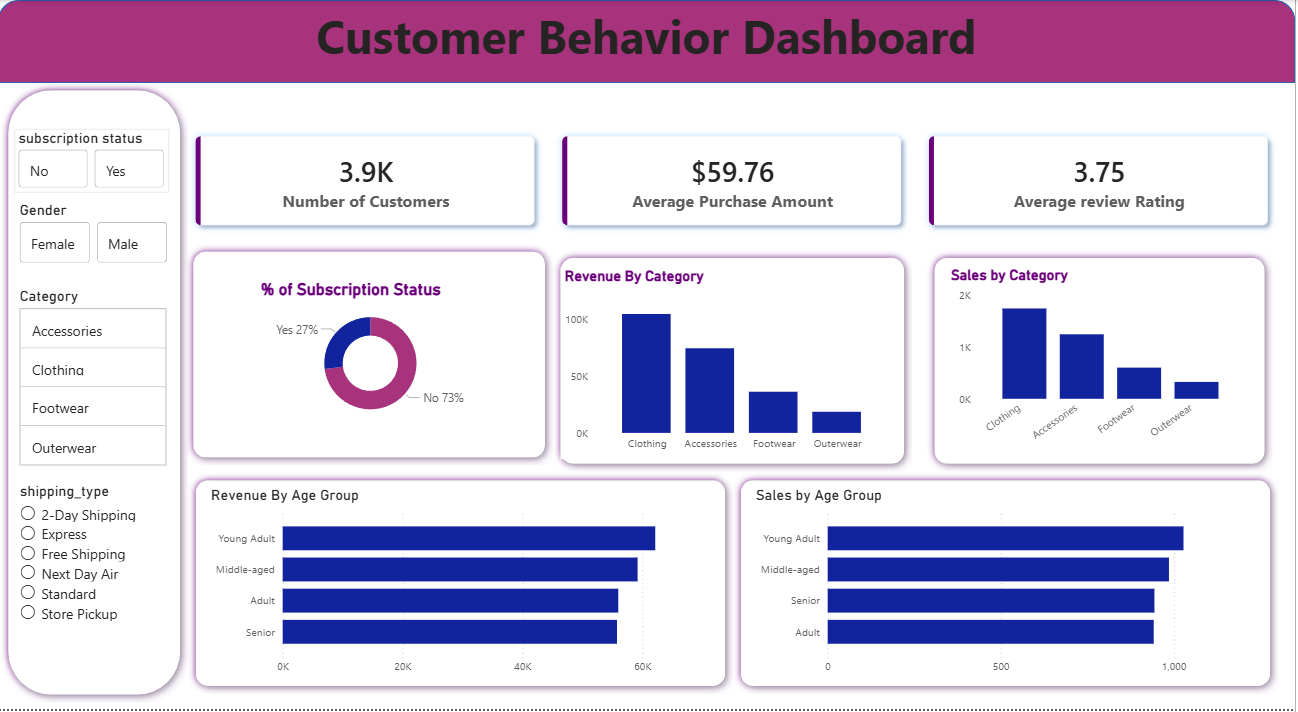

Layout of this report page (visuals, bound fields, positions):
{"tool":"powerbi","page":{"name":"Page 1","canvas":[1500,820],"ordinal":0},"visuals":[{"type":"cardVisual","fields":{"Data":["public customer.Number of Customers","public customer.Average Purchase Amount","public customer.Average review Rating"]},"box":[199.2,128.1,1300.8,161.5],"z":0},{"type":"shape","box":[0,0,1499.9,96.1],"z":1000},{"type":"textbox","box":[110,0,1279.9,149],"z":2000},{"type":"shape","box":[217.3,281.3,424.8,256.3],"z":3000},{"type":"donutChart","title":"% of Subscription Status","fields":{"Category":["public customer.subscription_status"],"Y":["CountNonNull(public customer.customer_id)"]},"box":[299.4,323.1,263.2,171.3],"z":4000},{"type":"shape","box":[642,289.7,415,256.3],"z":5000},{"type":"shape","box":[1073.7,289.7,399.7,256.3],"z":6000},{"type":"clusteredColumnChart","title":"Revenue By Category","fields":{"Y":["Sum(public customer.purchase_amount)"],"Category":["public customer.category"]},"box":[650.4,309.2,384.4,221.4],"z":7000},{"type":"clusteredColumnChart","title":"Sales by Category","fields":{"Y":["CountNonNull(public customer.customer_id)"],"Category":["public customer.category"]},"box":[1097.4,307.8,348.2,221.4],"z":8000},{"type":"shape","box":[2.9,95.4,216.8,716.9],"z":9000},{"type":"advancedSlicerVisual","title":"subscription status","fields":{"Values":["public customer.subscription_status"]},"box":[18.8,148.9,179.2,73.7],"z":10000},{"type":"advancedSlicerVisual","title":"Gender","fields":{"Values":["public customer.gender"]},"box":[20.2,232.7,180.7,76.6],"z":11000},{"type":"advancedSlicerVisual","title":"Category","fields":{"Values":["public customer.category"]},"box":[20.2,332.4,179.2,212.5],"z":12000},{"type":"listSlicer","fields":{"Values":["public customer.shipping_type"]},"box":[20.2,557.9,177.8,215.4],"z":13000},{"type":"shape","box":[849.9,546.3,630.2,255.8],"z":16000},{"type":"clusteredBarChart","title":"Sales by Age Group","fields":{"Y":["CountNonNull(public customer.customer_id)"],"Category":["public customer.age_group"]},"box":[871.6,562.2,588.3,226.9],"z":17000},{"type":"shape","box":[219.7,546.3,630.2,255.8],"z":17001},{"type":"clusteredBarChart","title":"Revenue By Age Group","fields":{"Y":["Sum(public customer.purchase_amount)"],"Category":["public customer.age_group"]},"box":[241.4,562.2,588.3,226.9],"z":17002}]}

Visuals, with their boxes in screenshot pixels (x1, y1, x2, y2), scaled from the page's 1500x820 canvas onto the 1298x712 screenshot:
cardVisual - public customer.Number of Customers x public customer.Average Purchase Amount: locate(172, 111, 1297, 251)
shape: locate(0, 0, 1297, 83)
textbox: locate(95, 0, 1203, 129)
shape: locate(188, 244, 556, 467)
"% of Subscription Status" donutChart: locate(259, 281, 487, 429)
shape: locate(556, 252, 915, 474)
shape: locate(929, 252, 1275, 474)
"Revenue By Category" clusteredColumnChart: locate(563, 268, 895, 461)
"Sales by Category" clusteredColumnChart: locate(950, 267, 1251, 460)
shape: locate(3, 83, 190, 705)
"subscription status" advancedSlicerVisual: locate(16, 129, 171, 193)
"Gender" advancedSlicerVisual: locate(17, 202, 174, 269)
"Category" advancedSlicerVisual: locate(17, 289, 173, 473)
listSlicer - public customer.shipping_type: locate(17, 484, 171, 671)
shape: locate(735, 474, 1281, 696)
"Sales by Age Group" clusteredBarChart: locate(754, 488, 1263, 685)
shape: locate(190, 474, 735, 696)
"Revenue By Age Group" clusteredBarChart: locate(209, 488, 718, 685)
